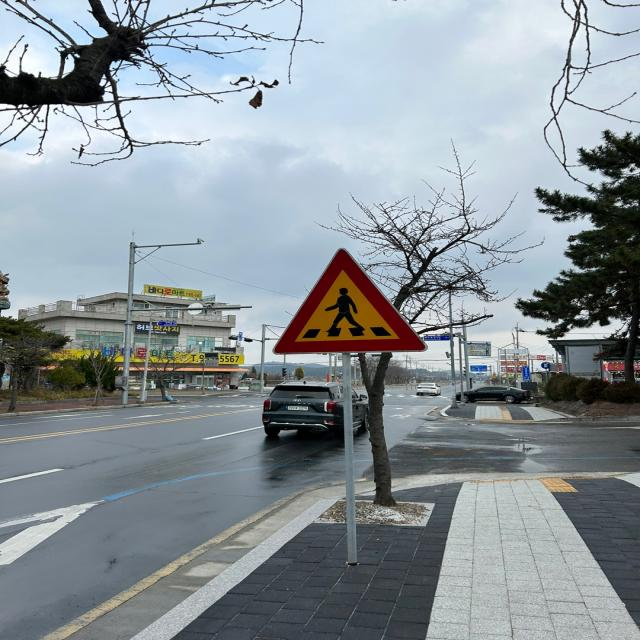Pedestrian_crossing: (267, 237, 430, 364)
